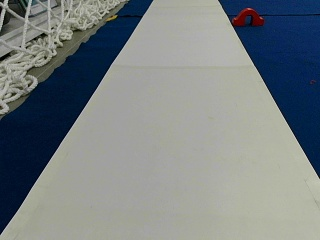bridge: (233, 7, 263, 24)
